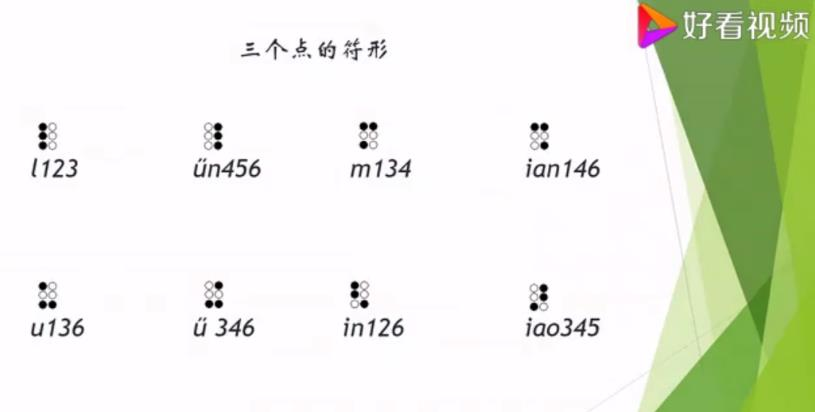Braille: (203, 280, 226, 310), (202, 122, 225, 151), (358, 121, 380, 151), (528, 282, 550, 312), (349, 281, 371, 310), (38, 122, 59, 151), (529, 122, 550, 150), (38, 281, 58, 310)
